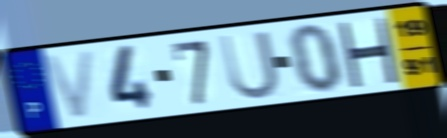0: (284, 22, 347, 95)
4: (108, 42, 161, 116)
7: (169, 38, 211, 107)
H: (335, 17, 401, 88)
U: (217, 28, 282, 102)
V: (40, 47, 98, 123)
